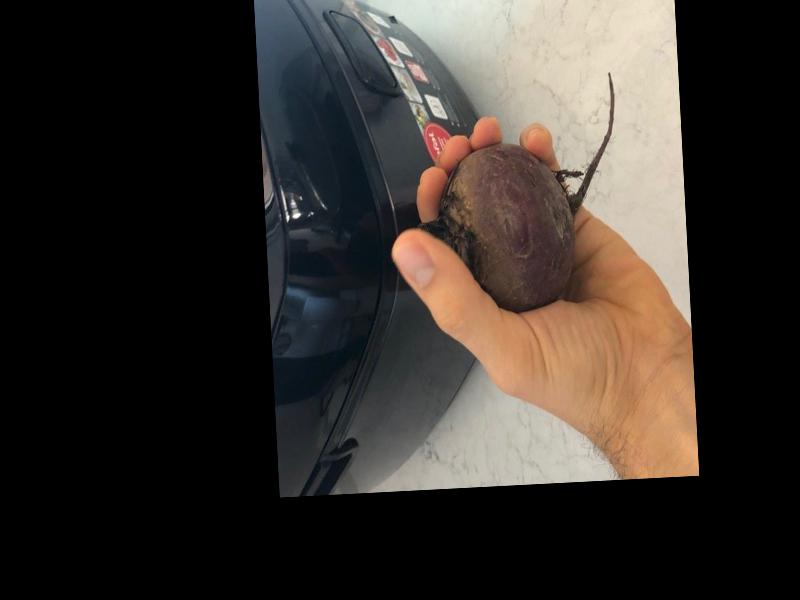Beet: (413, 72, 625, 316)
